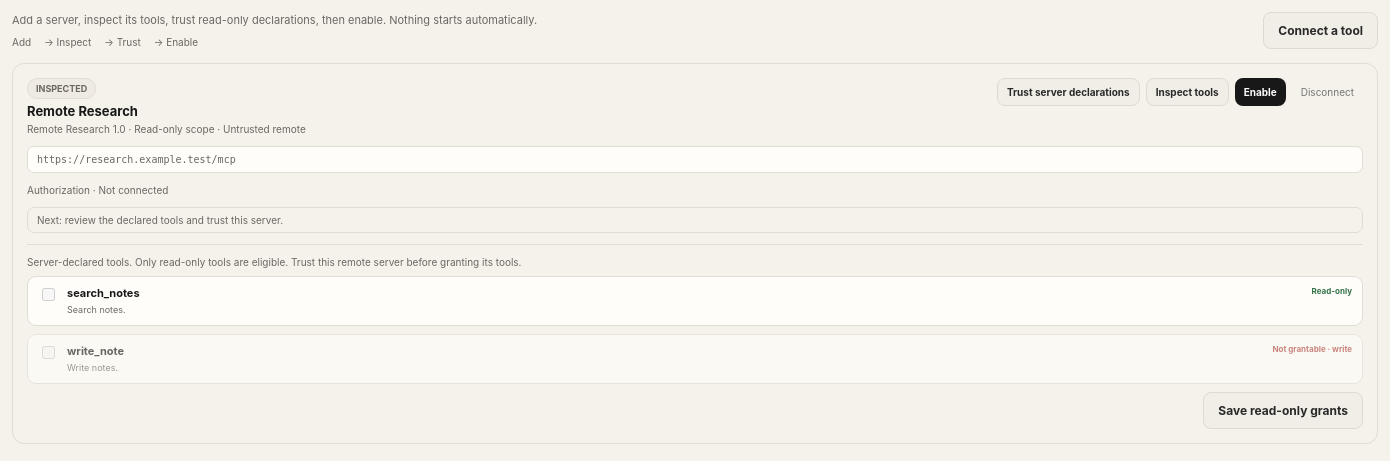
MCPConnectionsCard › requires an explicit trust decision before granting remote tools
Expected: the text "Remote Research 1.0 · Read-only scope · Untrusted remote" is shown, [27,123,306,135]
Expected: the checkbox labelled "search_notes Search notes. Read-only" is disabled, [42,288,55,301]
Click the button "Trust server declarations" at [1068, 92], box [997,78,1140,106]
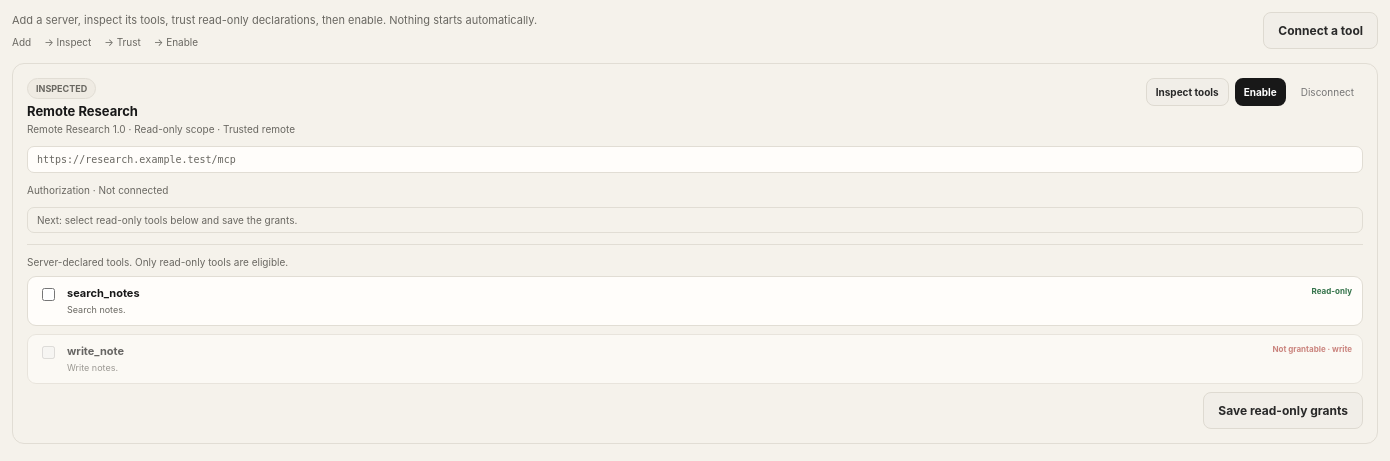
Now the checkbox labelled "search_notes Search notes. Read-only" is enabled, box [42,288,55,301]
